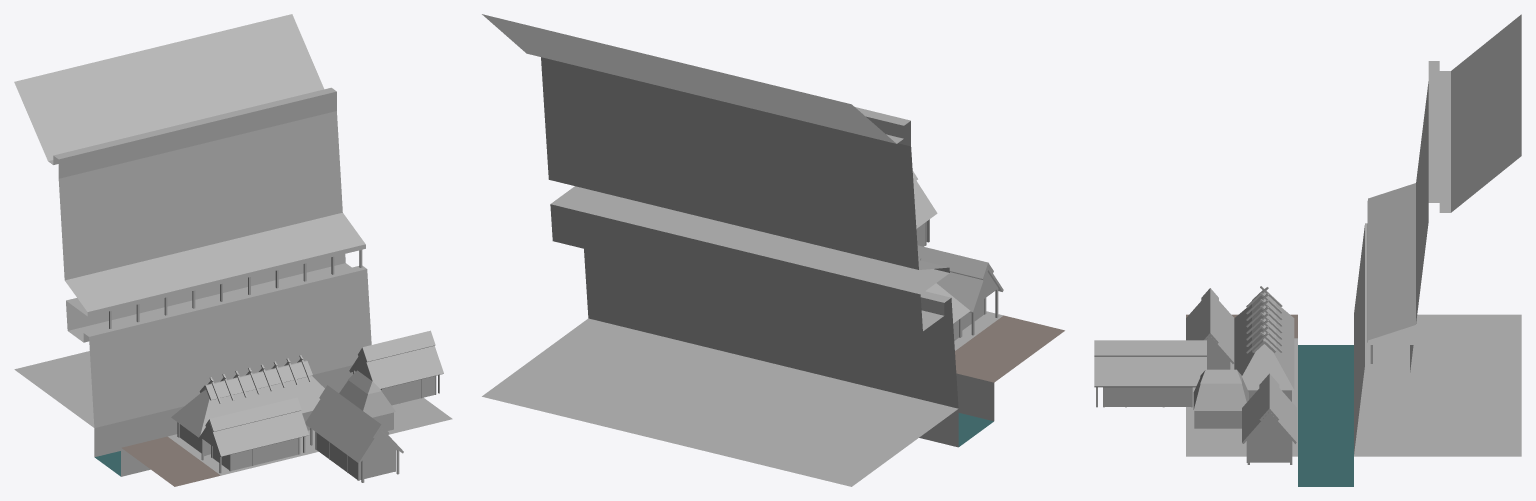
The picture shows the model from 3 angles, left to right: view 1: azimuth 30°, elevation 25°; view 2: azimuth 150°, elevation 25°; view 3: azimuth 270°, elevation 25°; orthographic projection. The views are drawn at different scales.
Visible parts, largest first — view 1: cc1r; view 2: cc1r; view 3: cc1r.
Part boxes in pixels (left/top/right/bottom): cc1r: left=14, top=14, right=452, bottom=486; cc1r: left=482, top=14, right=1064, bottom=486; cc1r: left=1094, top=14, right=1521, bottom=486.
Size of the model in its own units: 31.93 by 32.63 by 38.19.
